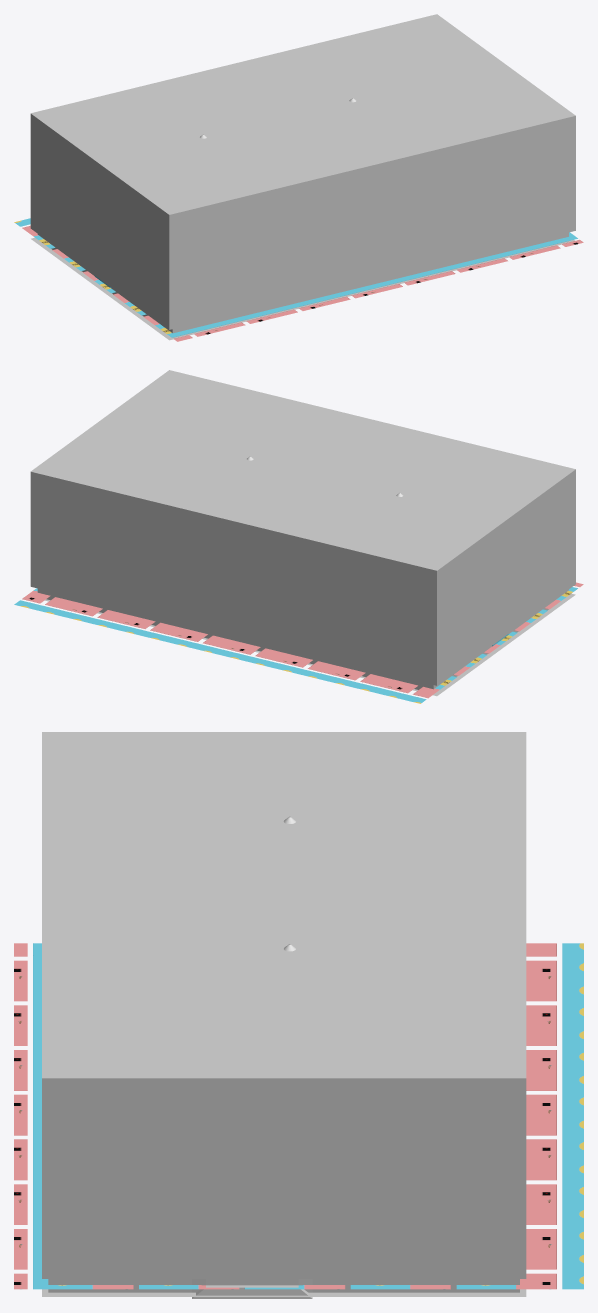
The model's file is arcade.dae.
The picture shows the model from 3 angles, top to bottom: view 1: azimuth 30°, elevation 25°; view 2: azimuth 150°, elevation 25°; view 3: azimuth 270°, elevation 25°; orthographic projection. The views are drawn at different scales.
Parts seen in each view (by area): view 1: floor-col.002, floor-col; view 2: floor-col.002, floor-col; view 3: floor-col.002, floor-col, Cube.
Boxes of the visible parts, x1=… form: floor-col.002: x1=30, y1=14, x2=575, y2=340; floor-col: x1=14, y1=218, x2=583, y2=341; floor-col.002: x1=30, y1=370, x2=575, y2=696; floor-col: x1=14, y1=582, x2=583, y2=703; floor-col.002: x1=42, y1=732, x2=526, y2=1296; floor-col: x1=14, y1=943, x2=583, y2=1289; Cube: x1=192, y1=1279, x2=312, y2=1298.
Bounding box in the file's own units: 17.72 × 12.33 × 5.4.
Materials: 14 (8 with a texture image).
